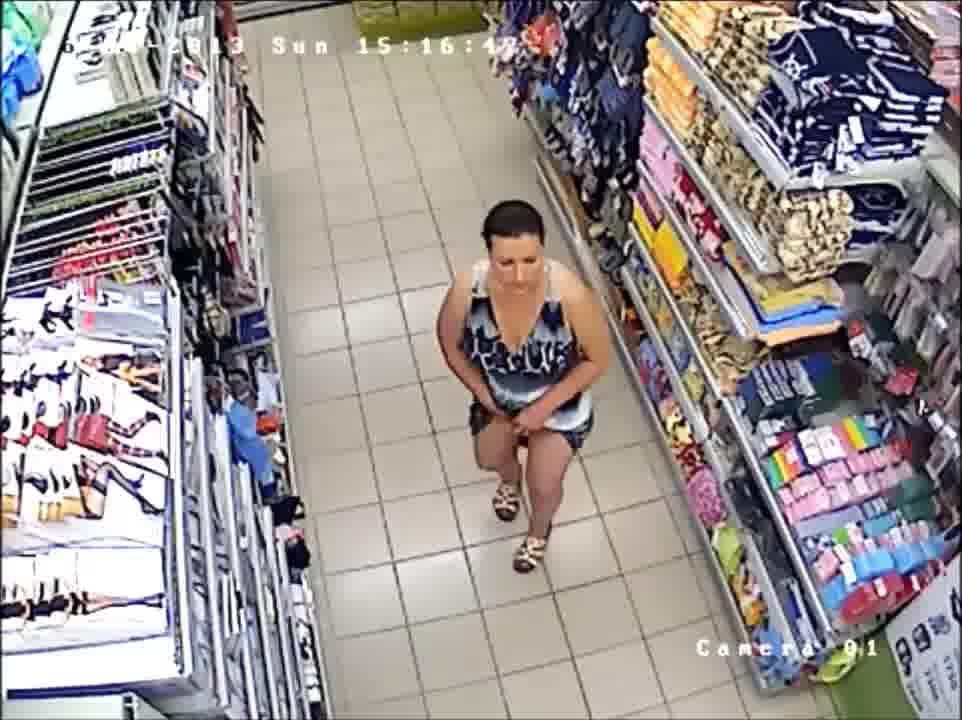shoplifting: (431, 197, 626, 626)
